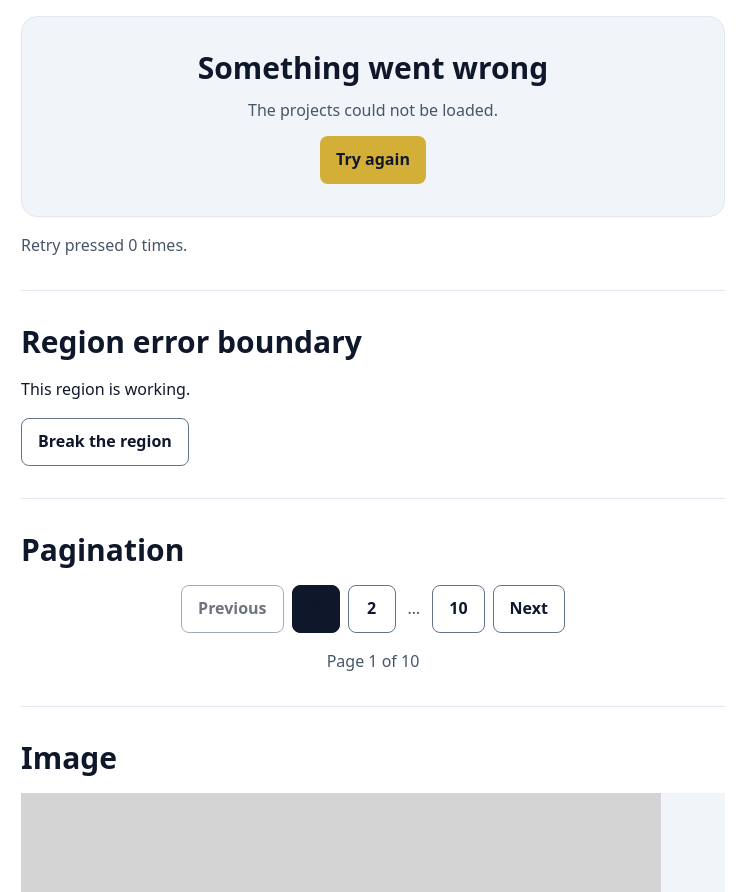
Test: ComponentGalleryPage › shows and recovers the region error boundary
This screenshot has width=742, height=892.
(page scrolled)
What coordinates should you click on to do the following:
click the button "Break the region"
I would click on:
 (105, 442)
Its box is [21,418,189,466].
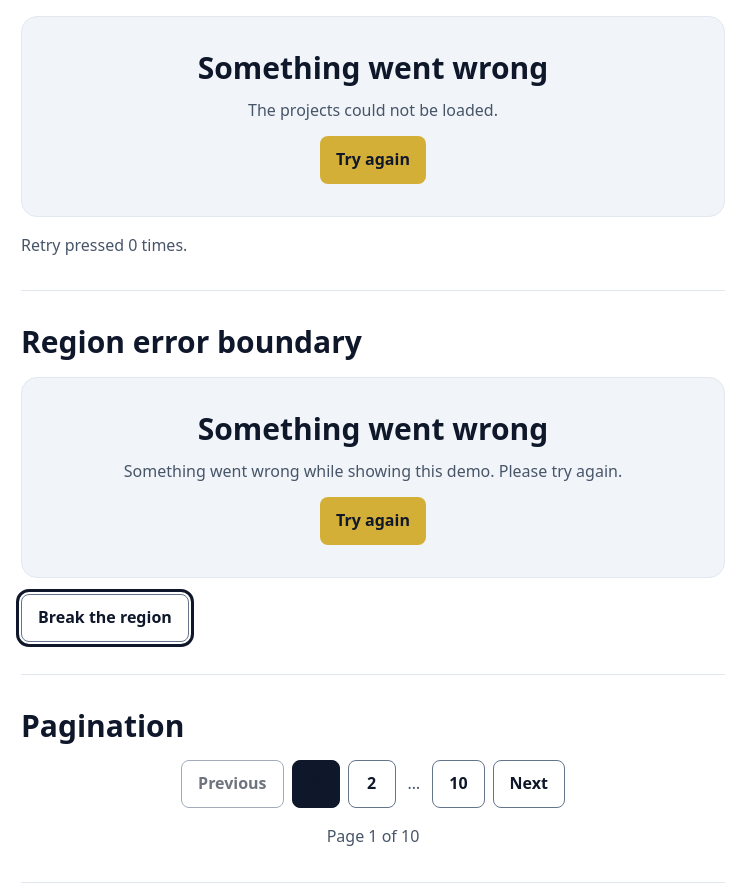
Expected: the 3rd message is shown, [21,377,725,578]
